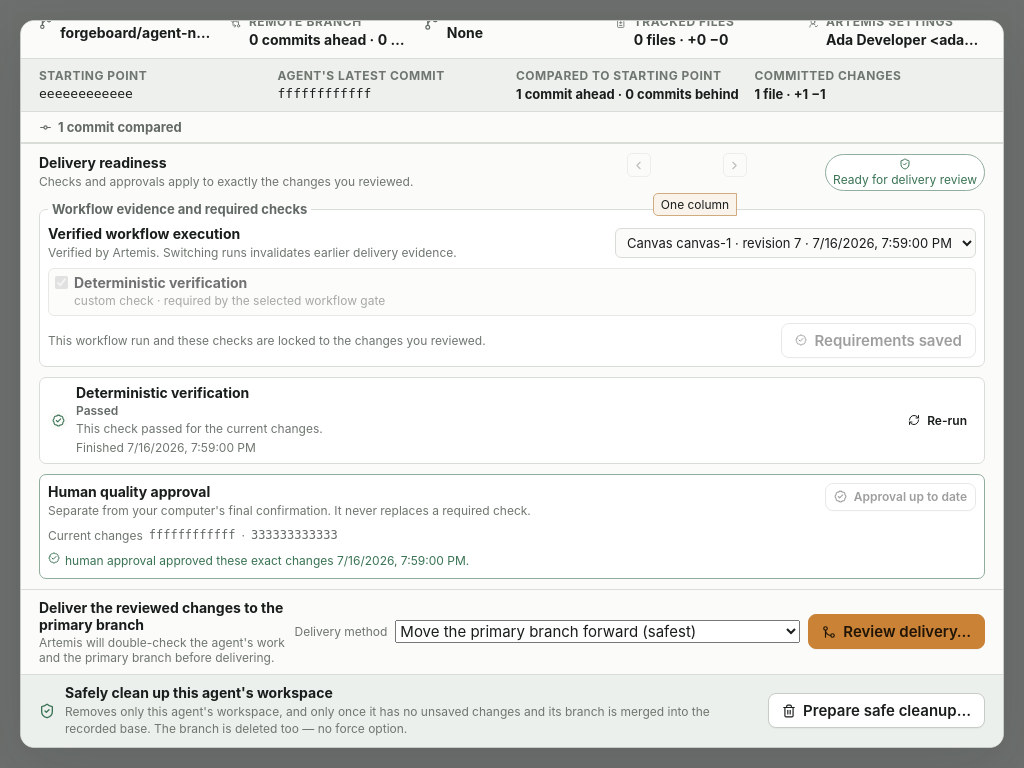
Test: GitReviewDialog › offers merge-commit delivery and discloses the selected strategy
(page scrolled)
Select "Create one merge commit (preserve both histories)" in the dropdown labelled "Delivery method" at (598, 632), box [395,620,800,643]
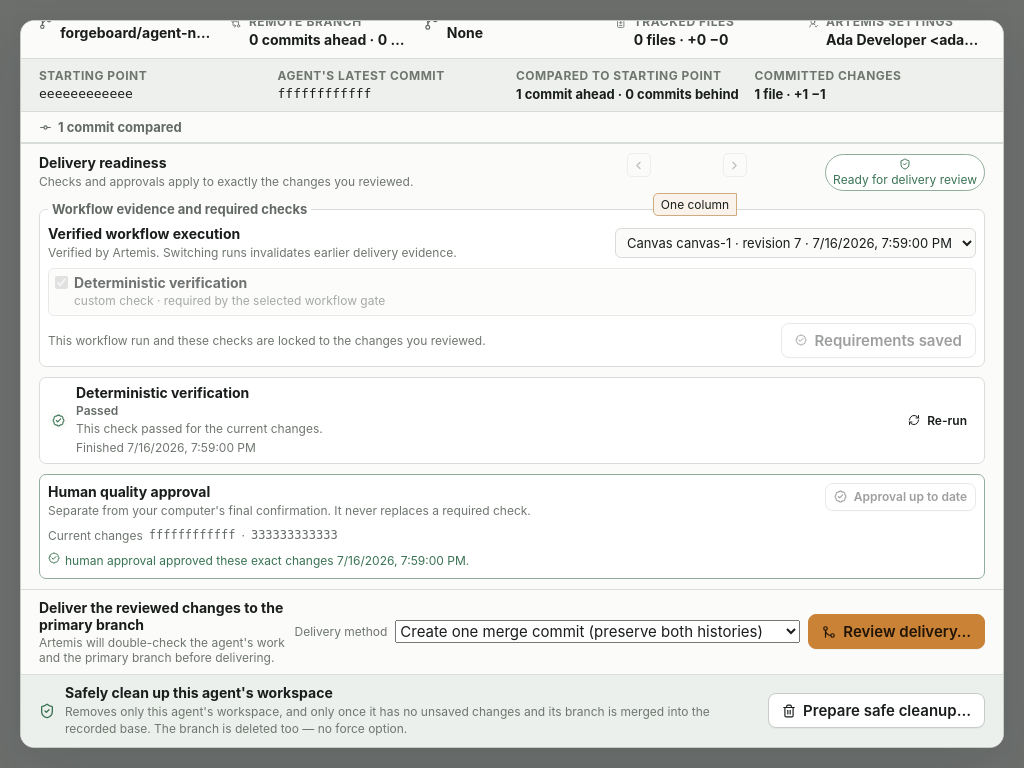
Click the button "Review delivery…" at (897, 632), box [808,614,985,649]
(page scrolled)
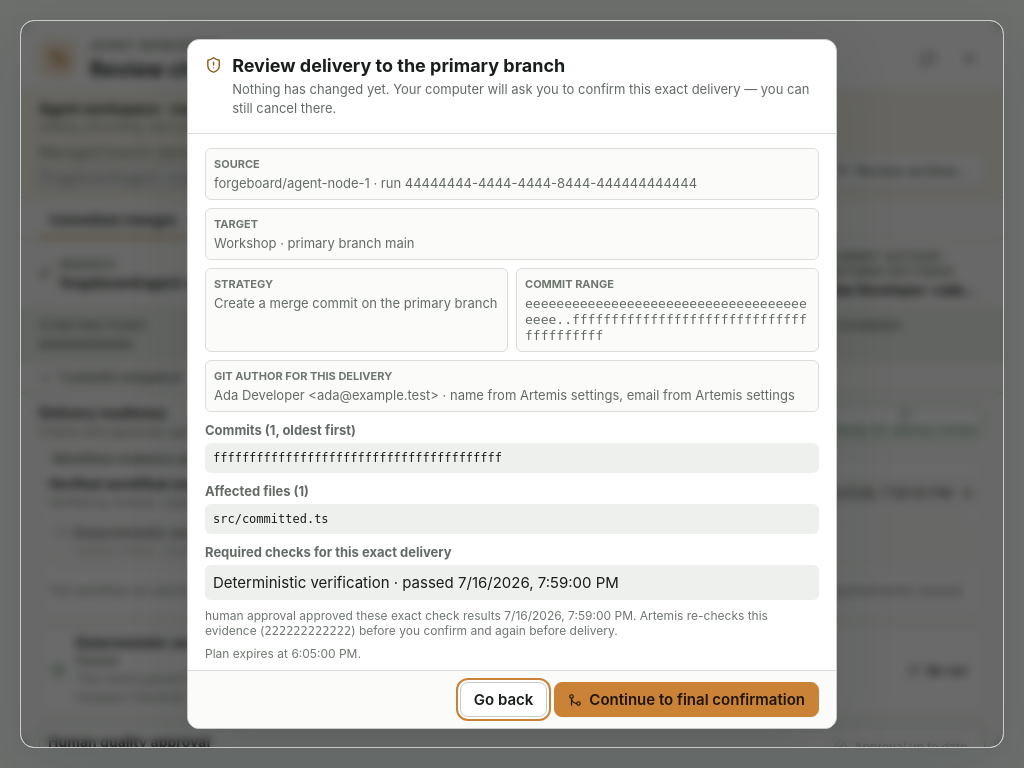
expect the dialog "Review delivery to the primary branch" shows "Create a merge commit on the primary branch": met, box [214,295,498,311]
